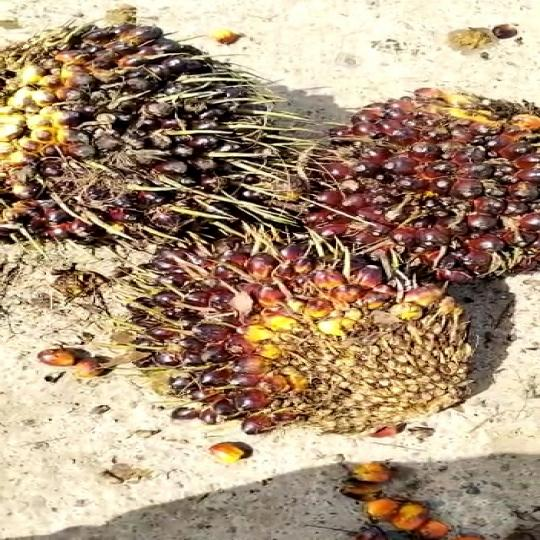kurang masak: (107, 232, 480, 439), (0, 6, 230, 260), (271, 81, 540, 276)
